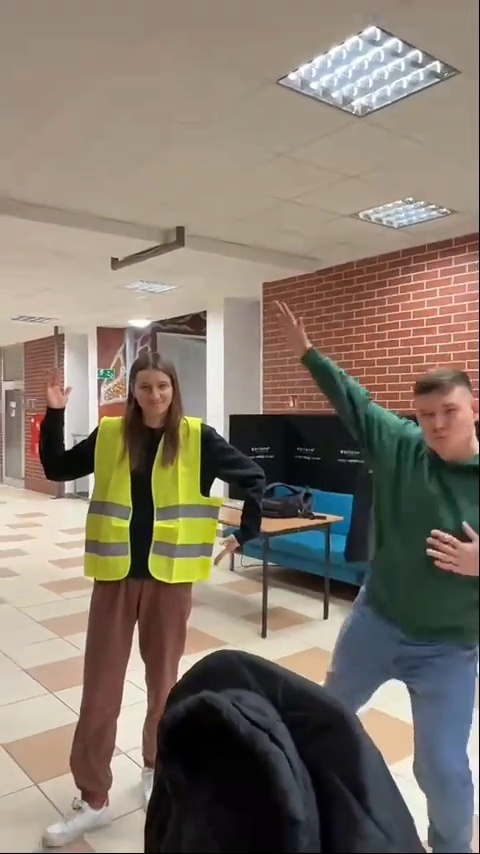no vest: (274, 288, 480, 853)
vest: (47, 338, 260, 853)
